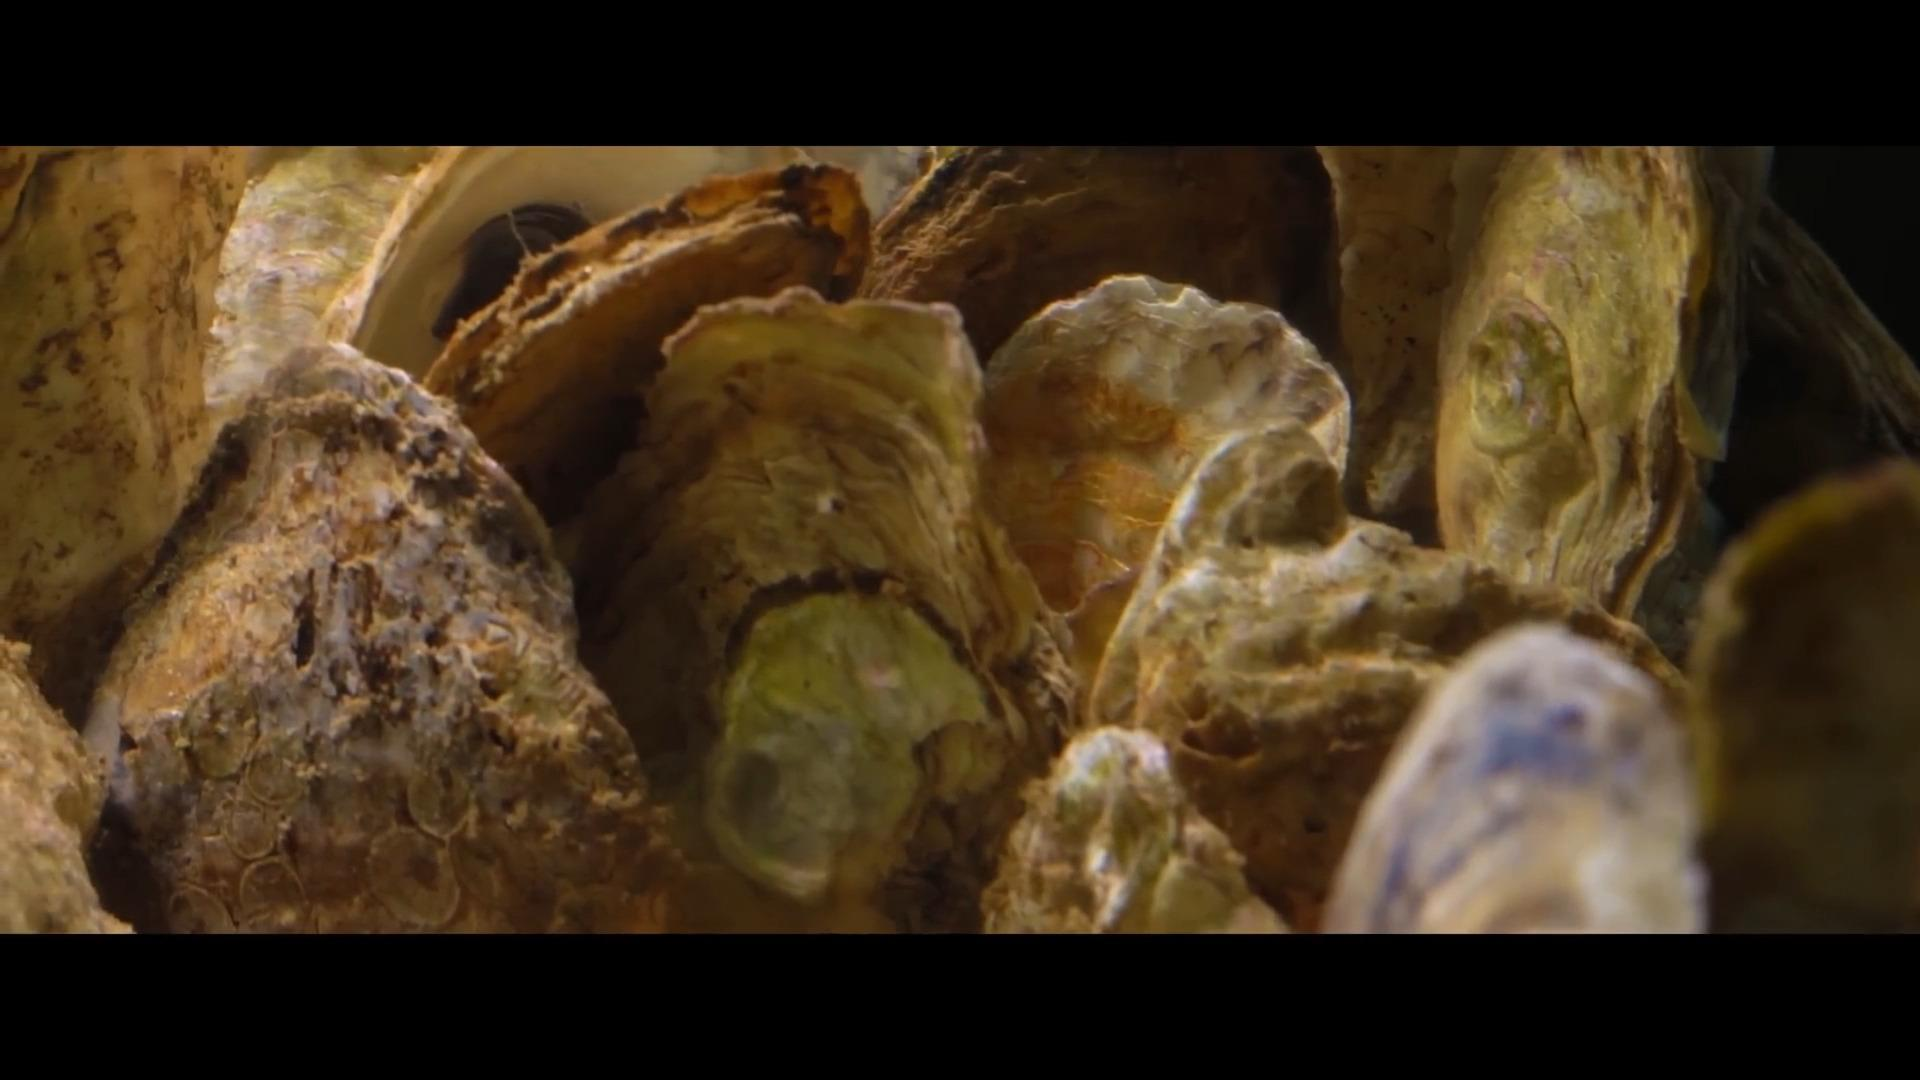Oyster: (0, 347, 676, 934), (538, 282, 1052, 928), (419, 158, 865, 510), (976, 274, 1341, 658), (1429, 144, 1717, 613), (1, 146, 240, 686), (1323, 624, 1706, 932), (862, 144, 1331, 380), (1691, 468, 1920, 919), (972, 724, 1300, 930), (1, 624, 144, 935)
